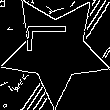L_E: (31, 33, 79, 66)
